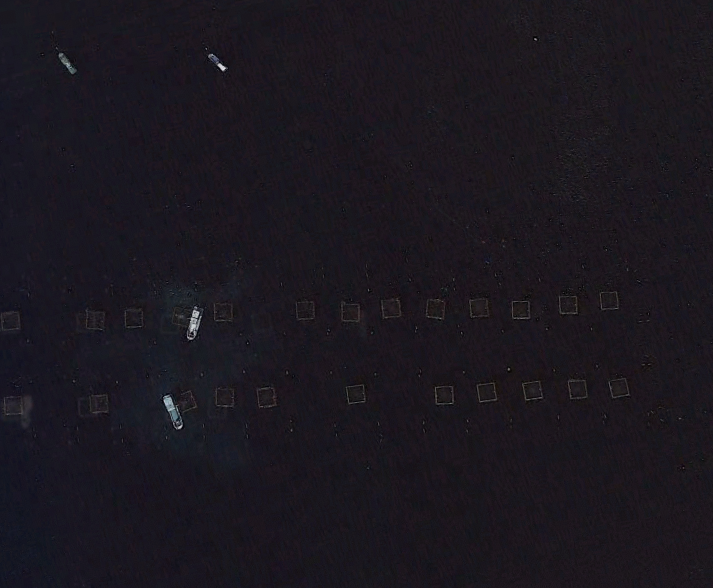ship: (158, 391, 185, 432), (207, 48, 231, 76), (56, 48, 79, 77), (188, 299, 204, 340)
square: (76, 385, 114, 421), (79, 303, 110, 340), (212, 383, 244, 418), (516, 370, 548, 403), (168, 384, 201, 416), (205, 294, 239, 324), (427, 379, 459, 410), (552, 284, 582, 317), (605, 372, 637, 402), (422, 292, 451, 325), (505, 294, 534, 326), (290, 295, 322, 324), (595, 284, 624, 315), (564, 374, 593, 405), (472, 376, 502, 405), (340, 380, 371, 408), (466, 291, 495, 320), (119, 303, 148, 331), (378, 294, 407, 322), (1, 390, 26, 420), (254, 379, 278, 410), (169, 303, 196, 330), (337, 299, 364, 325)
